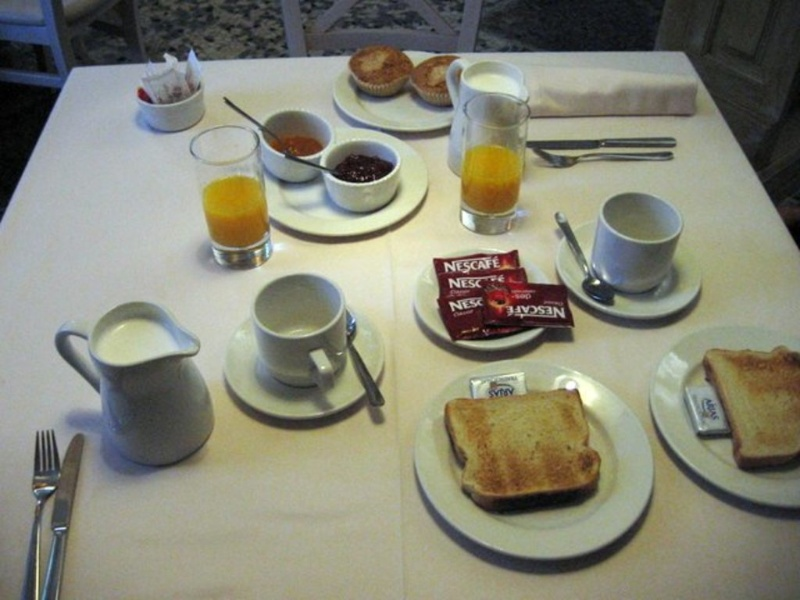cup: (246, 269, 354, 396), (584, 187, 688, 299)
dining table: (13, 30, 796, 596)
